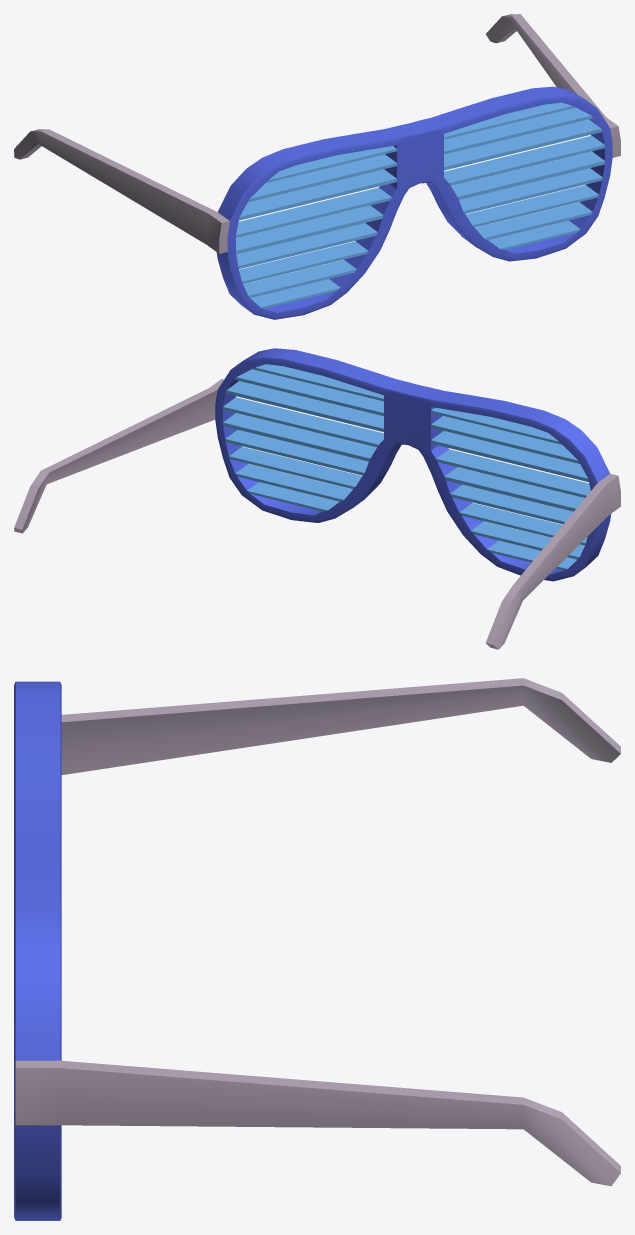
Rendered from Glasses_09_03.fbx.
The picture shows the model from 3 angles, top to bottom: view 1: azimuth 30°, elevation 25°; view 2: azimuth 150°, elevation 25°; view 3: azimuth 270°, elevation 25°; orthographic projection. The views are drawn at different scales.
Parts seen in each view (by area): view 1: Glasses_09_03; view 2: Glasses_09_03; view 3: Glasses_09_03.
Boxes of the visible parts, bbox=[...] form: Glasses_09_03: bbox=[14, 14, 620, 319]; Glasses_09_03: bbox=[14, 348, 620, 649]; Glasses_09_03: bbox=[14, 678, 620, 1220].
Size of the model in its own units: 39.35 by 12.35 by 23.42.
